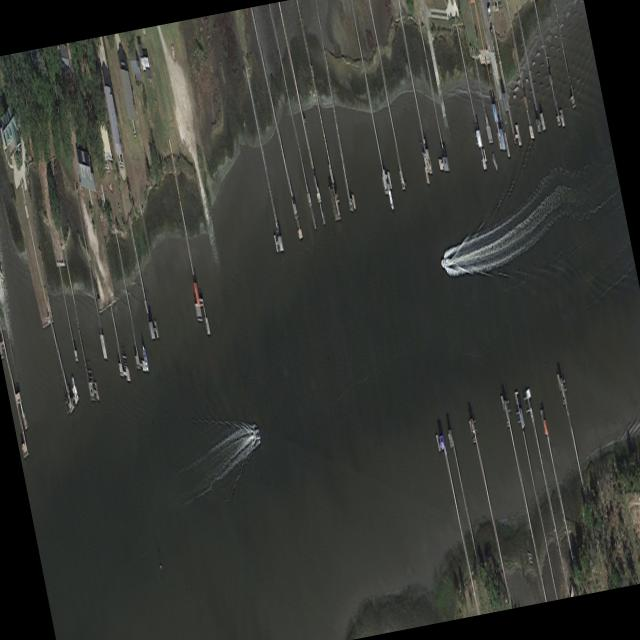ship: (386, 178, 394, 210), (142, 344, 149, 374), (72, 374, 79, 402), (255, 426, 261, 442), (441, 258, 447, 270)
small-vehicle: (488, 3, 491, 17)
